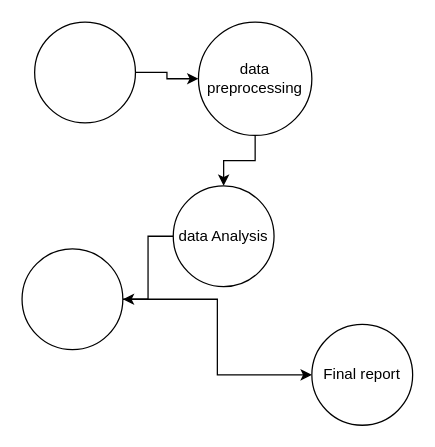
The diagram is 435 pixels wide and 447 high, and some of its shapes have lost their labels. Each missing label, with the box of its shape:
Data Upload: (33, 21, 135, 123)
Data Visualization: (21, 248, 123, 350)
